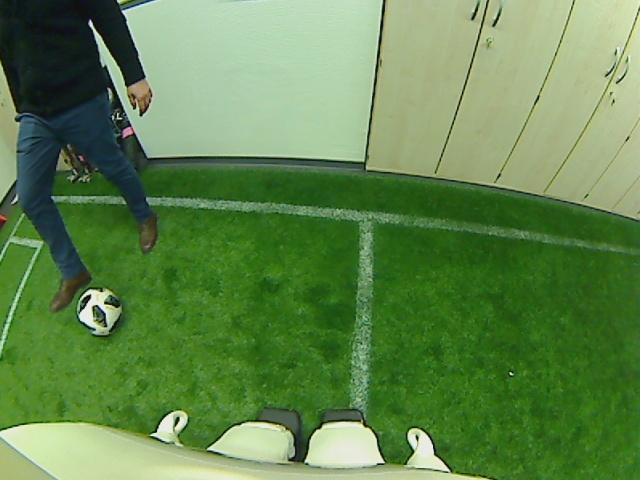ball: (73, 284, 122, 336)
